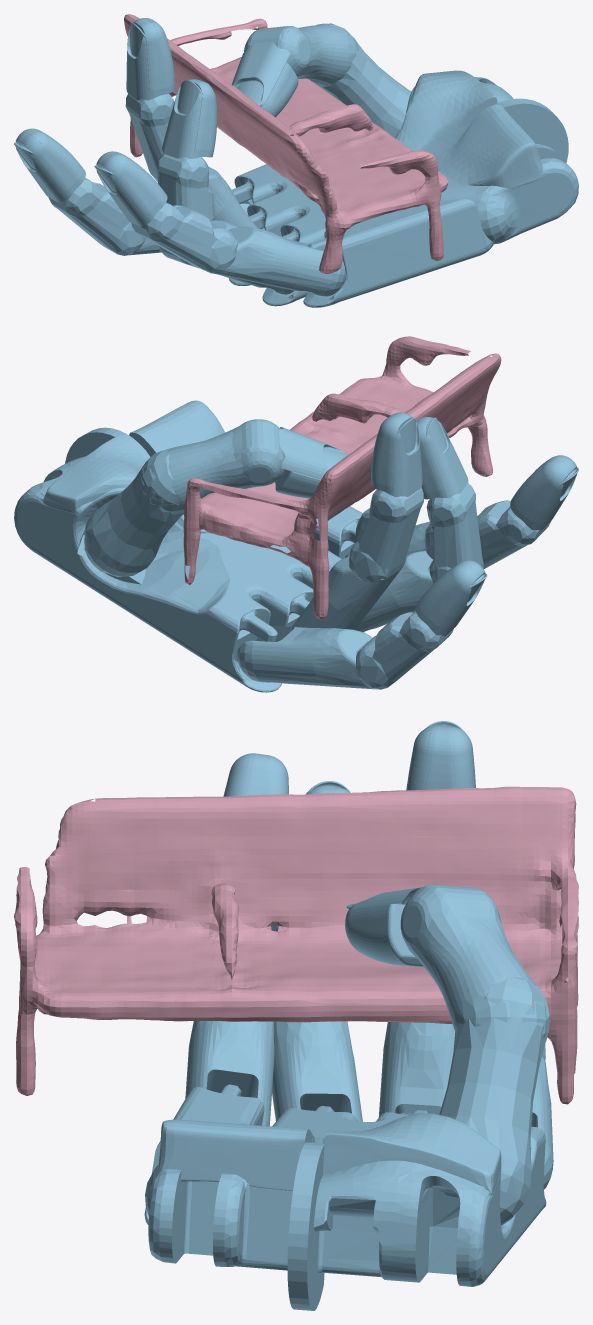
The picture shows the model from 3 angles, top to bottom: view 1: azimuth 30°, elevation 25°; view 2: azimuth 150°, elevation 25°; view 3: azimuth 270°, elevation 25°; orthographic projection. The views are drawn at different scales.
Parts seen in each view (by area): view 1: hand_isaac_q, world; view 2: hand_isaac_q, world; view 3: hand_isaac_q, world.
Boxes of the visible parts, left/top/right/bottom form: hand_isaac_q: left=14, top=18, right=578, bottom=307; world: left=124, top=14, right=448, bottom=273; hand_isaac_q: left=14, top=400, right=578, bottom=692; world: left=183, top=336, right=501, bottom=619; hand_isaac_q: left=144, top=721, right=553, bottom=1310; world: left=14, top=786, right=578, bottom=1104.
Bounding box in the file's own units: 0.1922 × 0.105 × 0.1312.
